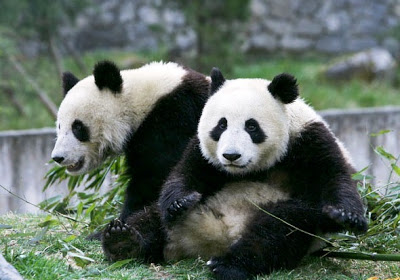panda: (105, 66, 374, 280), (47, 54, 233, 264)
